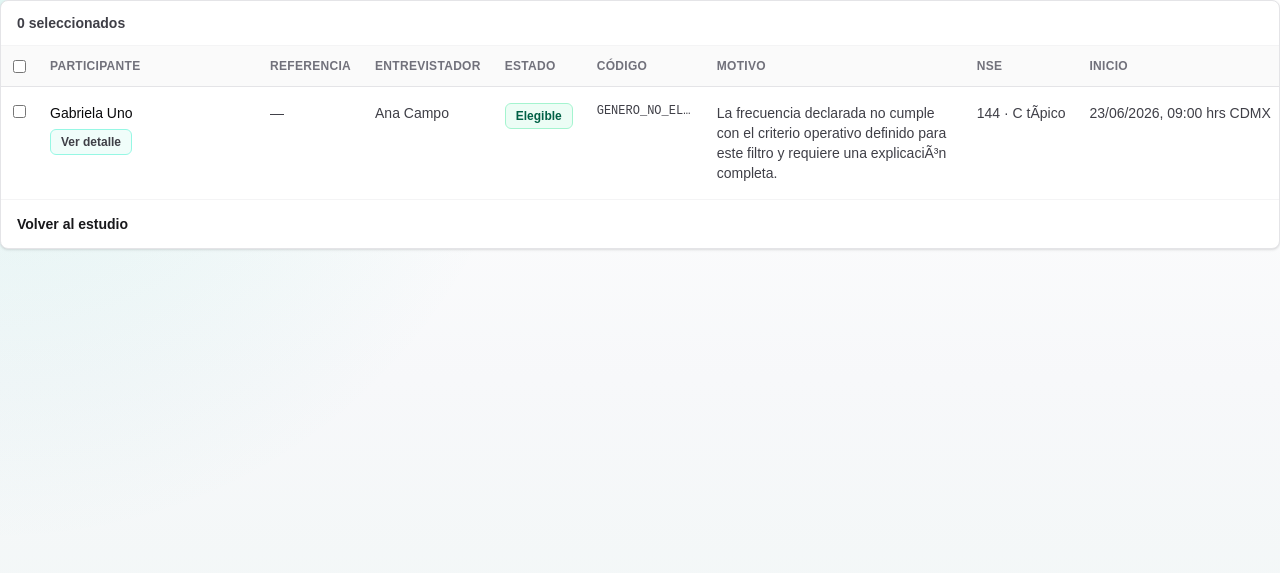
Test case: ScreeningSupervisionComponents › renders row checkboxes and shows the bulk delete confirmation after selecting a record
Expected: the text "0 seleccionados" is shown, left=17, top=13, right=125, bottom=33
Click the checkbox named "Seleccionar Gabriela Uno".
click(20, 112)  # box left=13, top=105, right=26, bottom=118
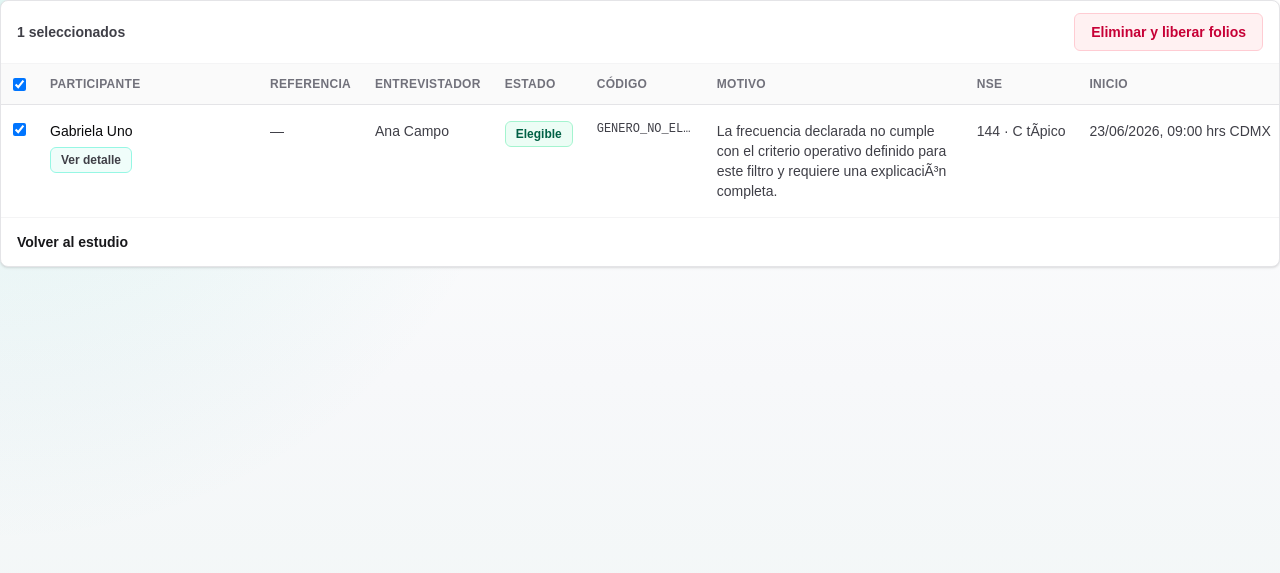
Expected: the text "1 seleccionados" is shown, left=17, top=22, right=125, bottom=42
Expected: the button "Eliminar y liberar folios" is shown
Click the button "Eliminar y liberar folios".
click(1169, 32)  # box left=1074, top=13, right=1263, bottom=51
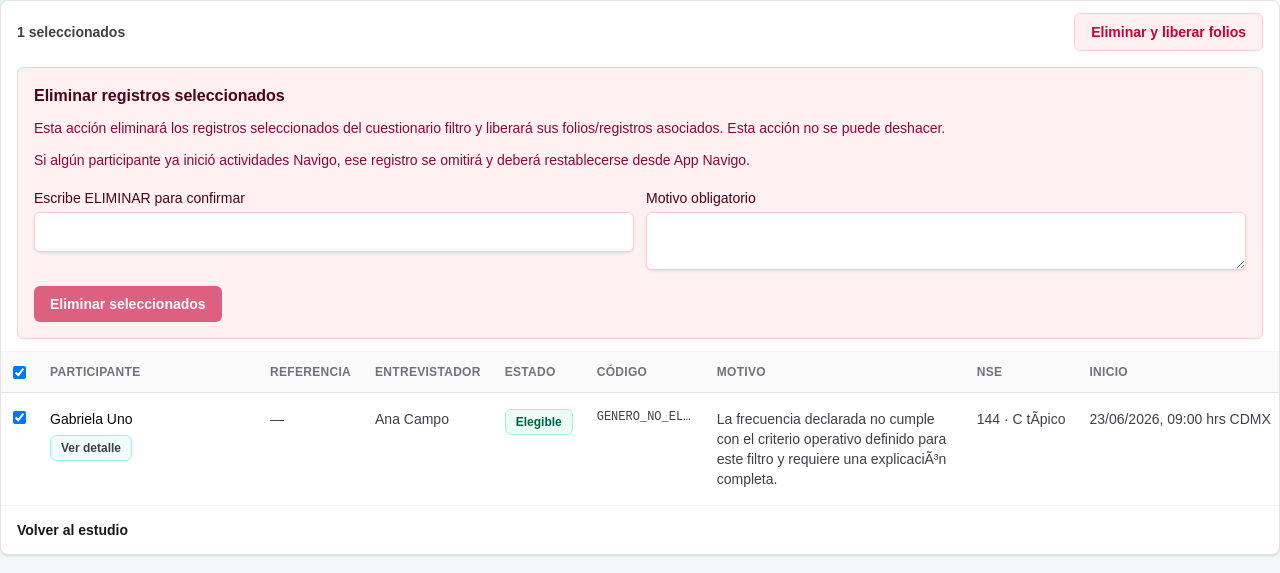
Expected: the heading "Eliminar registros seleccionados" is shown, left=34, top=87, right=285, bottom=104
Expected: the text "registros seleccionados del cuestionario filtro" is shown, left=34, top=120, right=945, bottom=136
Expected: the field labelled "Escribe ELIMINAR para confirmar" is shown, left=34, top=212, right=634, bottom=252
